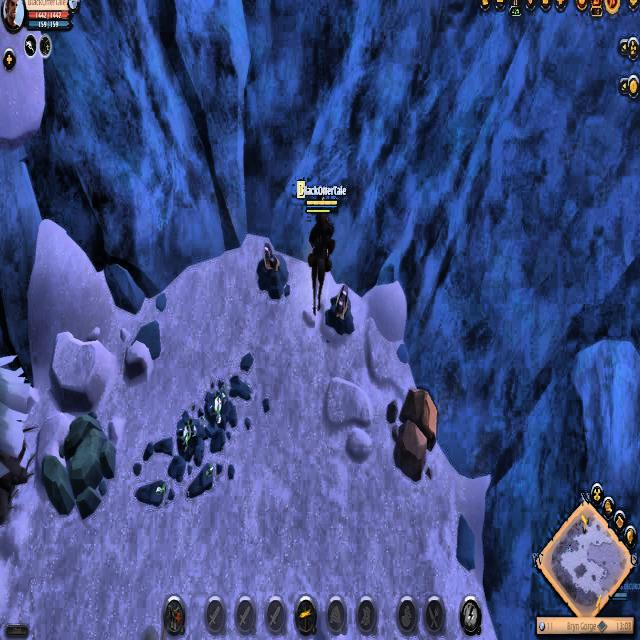copperore: (254, 237, 290, 308), (325, 279, 353, 333)
limestone: (388, 382, 437, 483)
sandstone: (41, 408, 117, 521)
